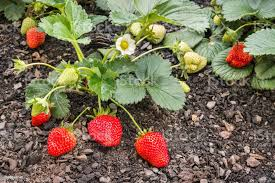ripe: (133, 127, 172, 168), (86, 111, 123, 149), (44, 125, 78, 155), (225, 41, 256, 69), (25, 23, 46, 48), (28, 108, 52, 128)
unripe: (179, 49, 209, 76), (145, 23, 169, 45), (174, 40, 192, 59), (29, 98, 47, 116), (18, 17, 35, 34), (128, 21, 145, 37), (177, 77, 192, 93), (220, 28, 234, 44), (213, 12, 222, 28)
